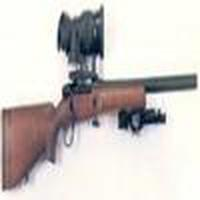gun: (3, 6, 198, 179)
